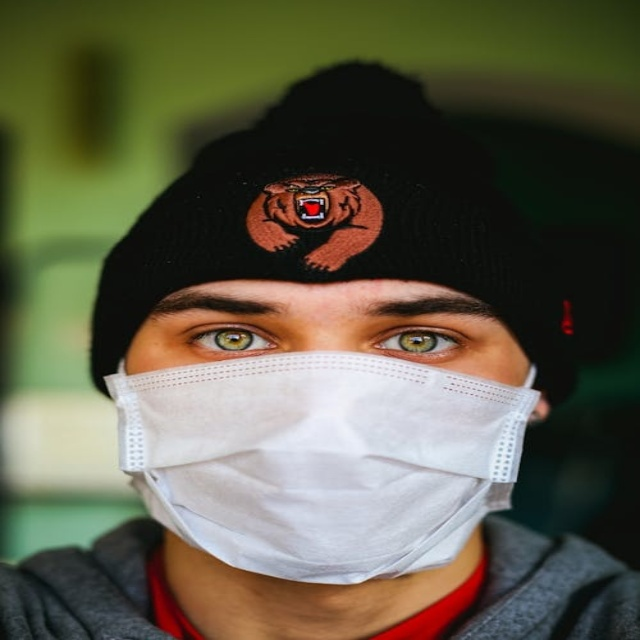Mascara: (107, 347, 540, 585)
Sin_gafas: (151, 306, 481, 364)
